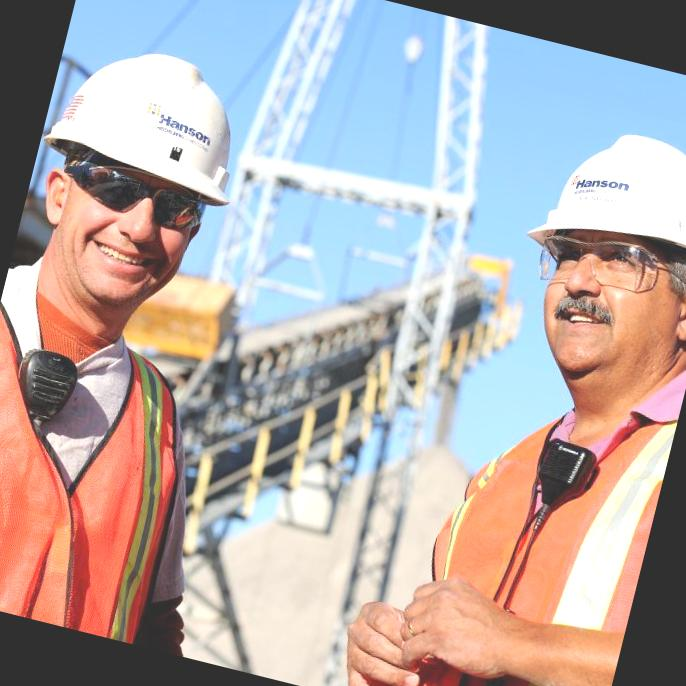helmet: (34, 26, 276, 220), (514, 105, 686, 293)
person: (0, 16, 315, 654), (364, 93, 686, 686)
